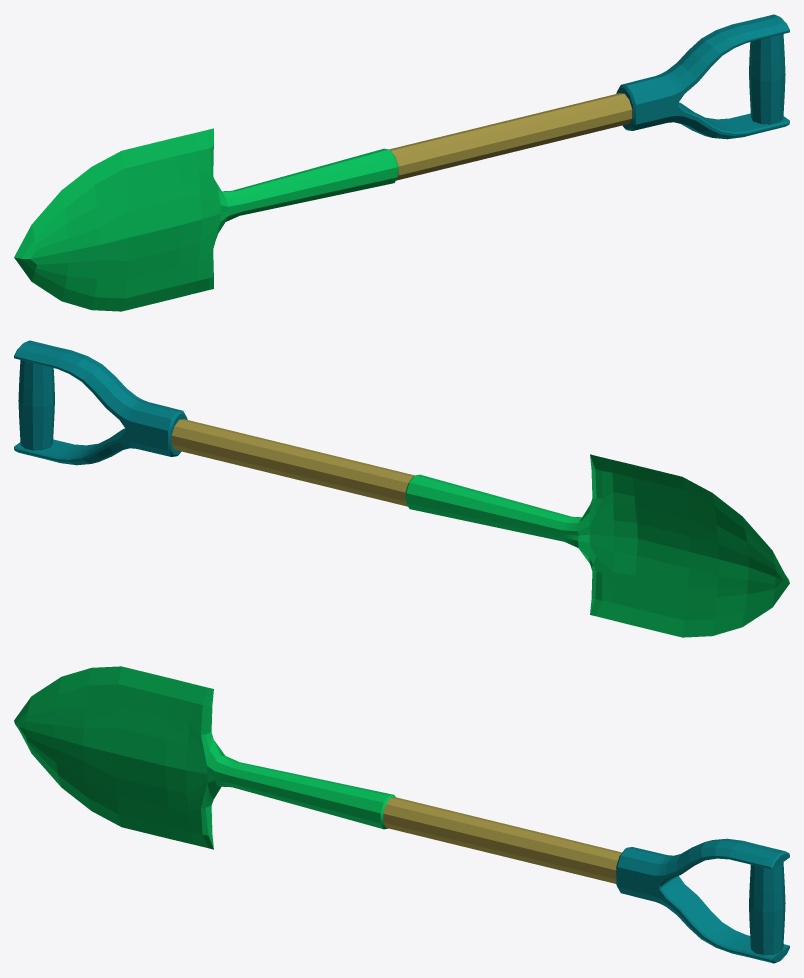
Rendered from PalaRota.fbx.
3 renders of one model, top to bottom at view 1: azimuth 30°, elevation 25°; view 2: azimuth 150°, elevation 25°; view 3: azimuth 330°, elevation 25°, orthographic.
Parts seen in each view (by area): view 1: polySurface4, pCylinder4, pCylinder1; view 2: polySurface4, pCylinder4, pCylinder1; view 3: polySurface4, pCylinder4, pCylinder1.
Part boxes in pixels (x1,y1,x2,y2): polySurface4: (14,128,398,311); pCylinder4: (616,14,789,139); pCylinder1: (389,93,632,180); polySurface4: (405,454,789,637); pCylinder4: (14,340,187,465); pCylinder1: (171,419,414,506); polySurface4: (14,666,395,849); pCylinder4: (616,838,789,963); pCylinder1: (383,797,621,883).
Bounding box in the file's own units: 75.32 × 15.05 × 3.19.
